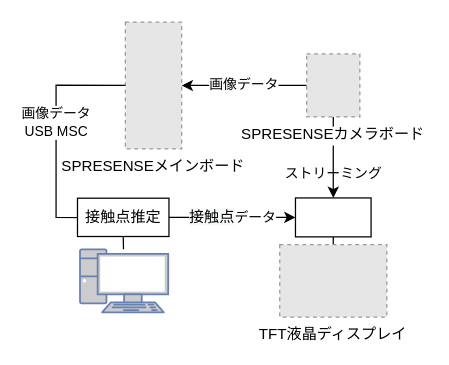
This 449x365 diagram has some shape labels left out. Grey dashed boxes stand in for pictures. Here are the shapes that lost their labels. From the top down, the box of each, then its label:
(294, 197, 371, 237): 反映
(78, 247, 169, 313): PC
